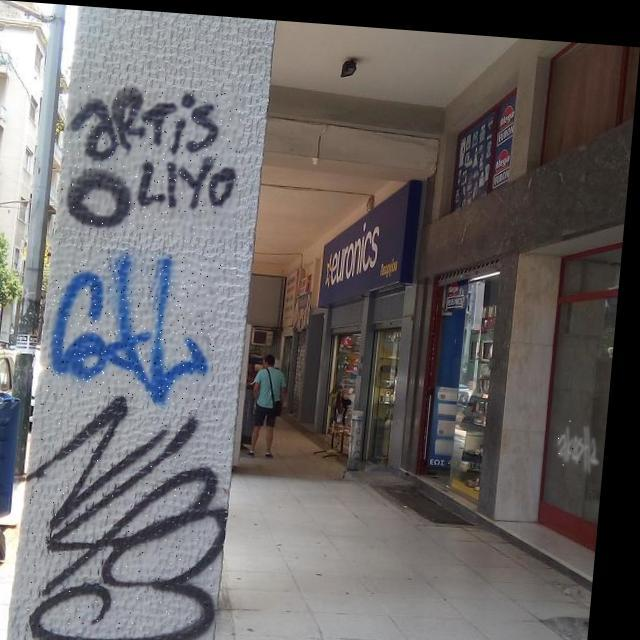-: (27, 389, 244, 640), (62, 80, 248, 236), (52, 246, 226, 404), (560, 410, 614, 462)
